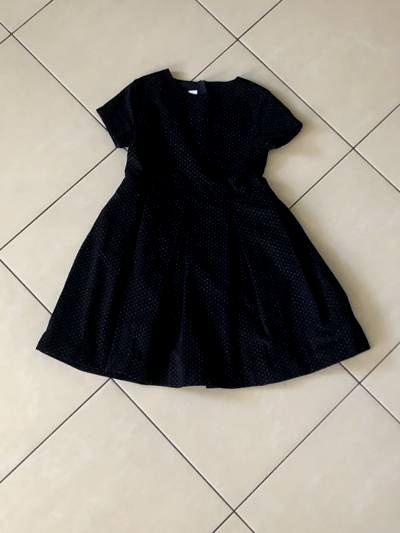Dress: (36, 43, 362, 409)
